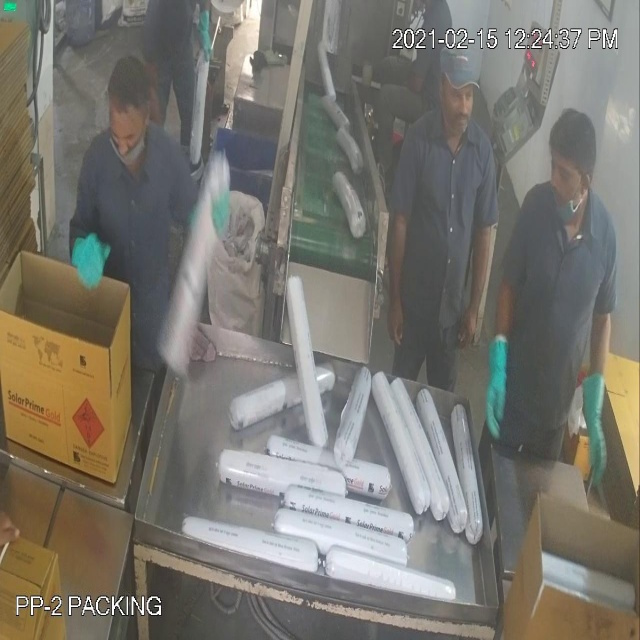Guantes: (483, 318, 520, 456), (74, 220, 126, 300), (580, 364, 611, 498)
Sin_guantes: (453, 200, 500, 364), (377, 194, 408, 356)
